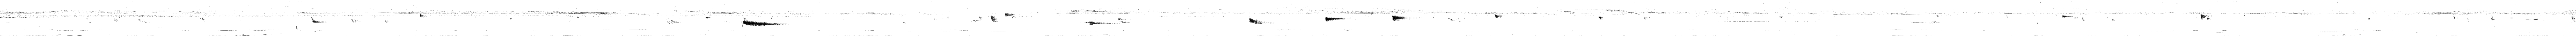meteor: (743, 20, 785, 26), (310, 16, 327, 23), (1249, 18, 1265, 25), (1391, 15, 1408, 21), (1324, 16, 1344, 21), (991, 16, 999, 23), (2200, 13, 2208, 20), (1495, 13, 1505, 18), (1005, 13, 1014, 18)
